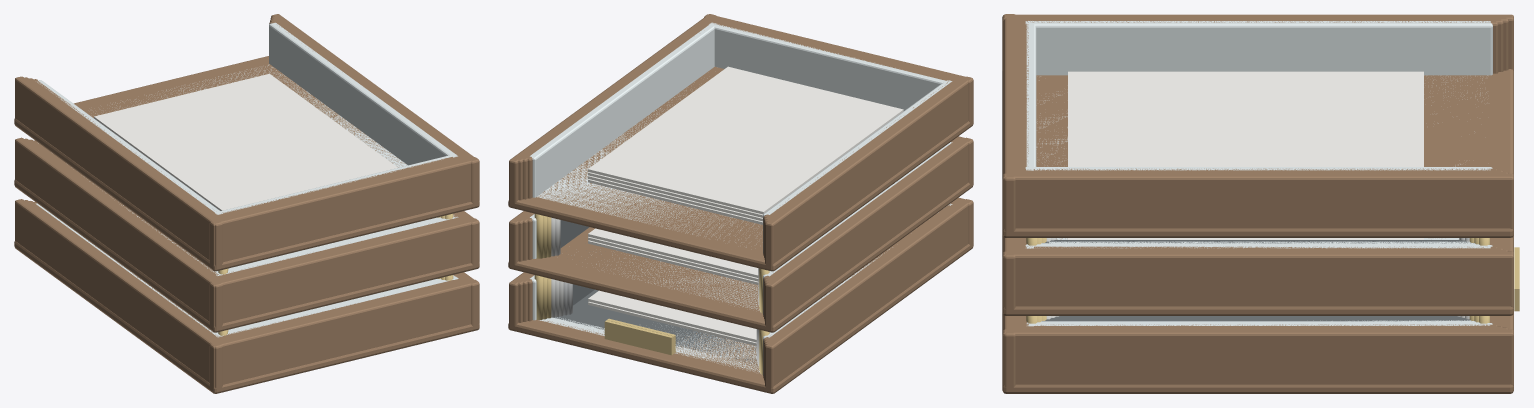
The model's file is Gear03.fbx.
3 views of the same model, side by side, from view 1: azimuth 30°, elevation 25°; view 2: azimuth 150°, elevation 25°; view 3: azimuth 270°, elevation 25° (orthographic). The views are drawn at different scales.
Visible parts, largest first — view 1: Gear03_V10_Walnut, Gear03_V10_Paper, Gear03_V6_Acrylic, Gear03_V9_Walnut, Gear03_V8_Walnut, Gear03_V7_Walnut, Gear03_V5_Acrylic, Gear03_V4_Acrylic; view 2: Gear03_V10_Walnut, Gear03_V10_Paper, Gear03_V6_Acrylic, Gear03_V8_Walnut, Gear03_V7_Walnut, Gear03_V9_Walnut, Gear03_V1_Paper, Gear03_V5_Acrylic, Gear03_V10_Brass, Gear03_V2_Charcoal, Gear03_V1_Charcoal, Gear03_V9_Brass (+5 smaller); view 3: Gear03_V10_Walnut, Gear03_V10_Paper, Gear03_V6_Acrylic, Gear03_V7_Walnut, Gear03_V8_Walnut, Gear03_V9_Walnut, Gear03_V3_Charcoal, Gear03_V4_Acrylic, Gear03_V5_Acrylic, Gear03_V1_Charcoal, Gear03_V10_Brass.
Part boxes in pixels (box(x1,y1,x2,y2)): Gear03_V10_Walnut: box(14, 14, 479, 393); Gear03_V10_Paper: box(94, 73, 397, 210); Gear03_V6_Acrylic: box(35, 22, 458, 337); Gear03_V9_Walnut: box(21, 16, 472, 343); Gear03_V8_Walnut: box(27, 18, 467, 341); Gear03_V7_Walnut: box(31, 21, 463, 339); Gear03_V5_Acrylic: box(215, 216, 453, 335); Gear03_V4_Acrylic: box(228, 217, 437, 330); Gear03_V10_Walnut: box(508, 14, 973, 393); Gear03_V10_Paper: box(588, 66, 903, 284); Gear03_V6_Acrylic: box(530, 22, 952, 375); Gear03_V8_Walnut: box(520, 18, 961, 380); Gear03_V7_Walnut: box(525, 21, 956, 378); Gear03_V9_Walnut: box(516, 16, 966, 382); Gear03_V1_Paper: box(588, 290, 756, 345); Gear03_V5_Acrylic: box(534, 216, 772, 371); Gear03_V10_Brass: box(534, 213, 769, 374); Gear03_V2_Charcoal: box(559, 292, 756, 363); Gear03_V1_Charcoal: box(563, 284, 756, 362); Gear03_V9_Brass: box(543, 215, 759, 370); Gear03_V10_Walnut: box(1002, 14, 1513, 393); Gear03_V10_Paper: box(1068, 71, 1423, 239); Gear03_V6_Acrylic: box(1025, 21, 1492, 326); Gear03_V7_Walnut: box(1020, 19, 1498, 327); Gear03_V8_Walnut: box(1015, 17, 1503, 329); Gear03_V9_Walnut: box(1010, 15, 1508, 331); Gear03_V3_Charcoal: box(1042, 240, 1473, 321); Gear03_V4_Acrylic: box(1037, 238, 1479, 322); Gear03_V5_Acrylic: box(1031, 243, 1485, 324); Gear03_V1_Charcoal: box(1054, 316, 1461, 317); Gear03_V10_Brass: box(1026, 238, 1519, 323).
Bounding box in the file's own units: 31.85 × 19.5 × 42.1.
